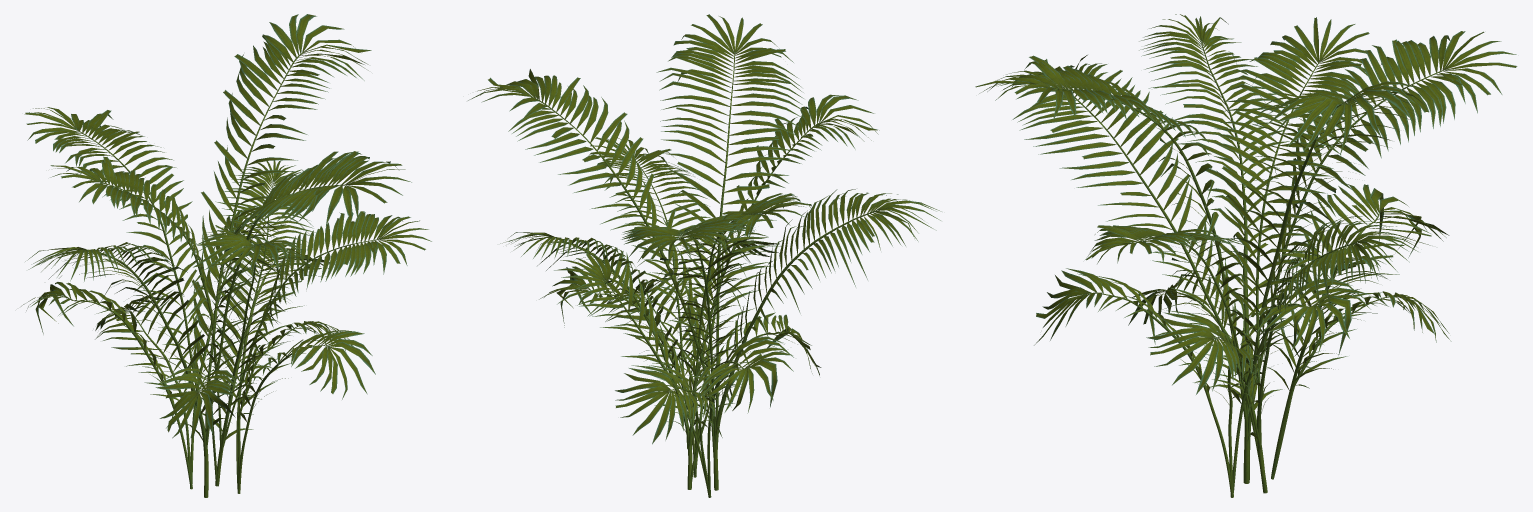
File: plant1.glb
3 views of the same model, side by side, from view 1: azimuth 30°, elevation 25°; view 2: azimuth 150°, elevation 25°; view 3: azimuth 270°, elevation 25° (orthographic). The views are drawn at different scales.
Parts seen in each view (by area): view 1: Plant_Areca_C_spring-summer-autumn; view 2: Plant_Areca_C_spring-summer-autumn; view 3: Plant_Areca_C_spring-summer-autumn.
Part boxes in pixels (x1,y1,x2,y2): Plant_Areca_C_spring-summer-autumn: (21,14,431,497); Plant_Areca_C_spring-summer-autumn: (468,14,941,497); Plant_Areca_C_spring-summer-autumn: (975,14,1517,497).
Bounding box in the file's own units: 2.2 × 2.11 × 2.16.
Materials: 2 (2 with a texture image).
